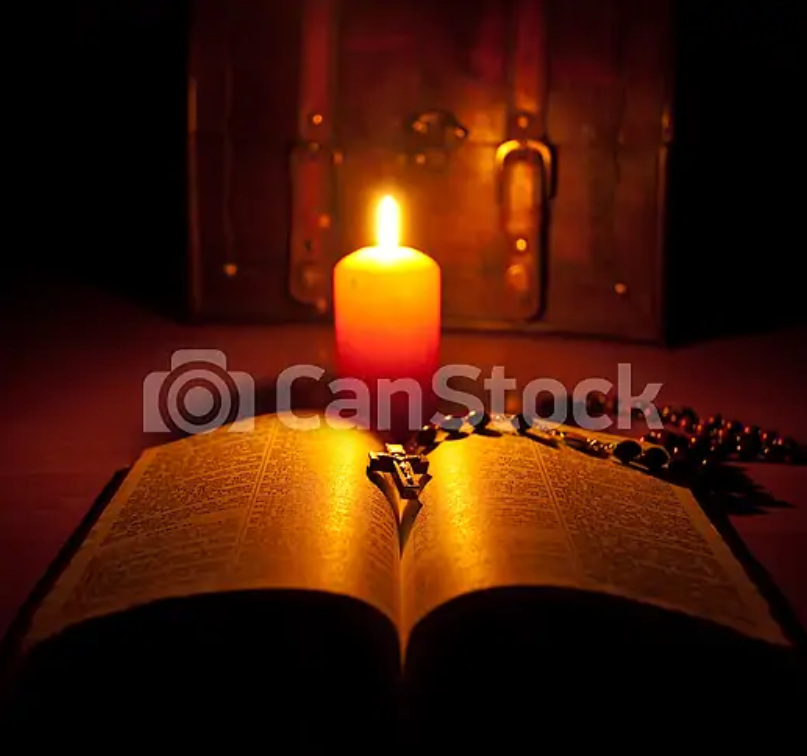book: (5, 430, 790, 671)
